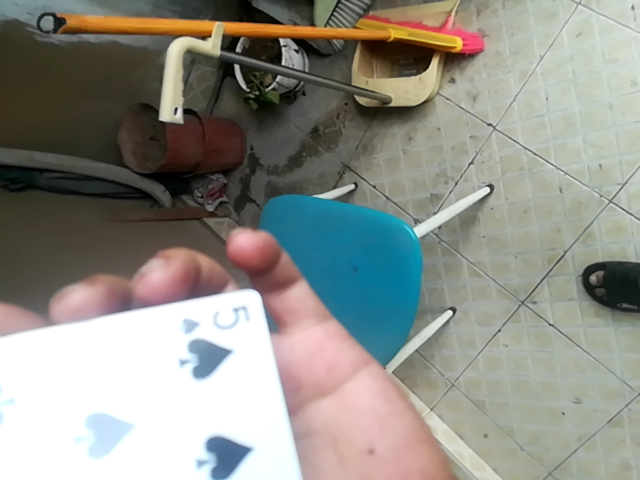ht 5: (1, 285, 318, 480)
